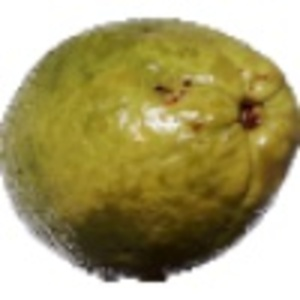goiaba: (1, 10, 291, 272)
